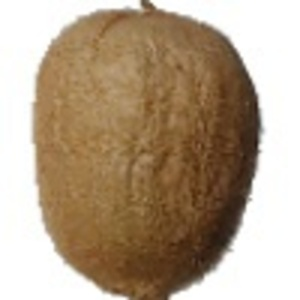kiwi: (30, 1, 262, 300)
